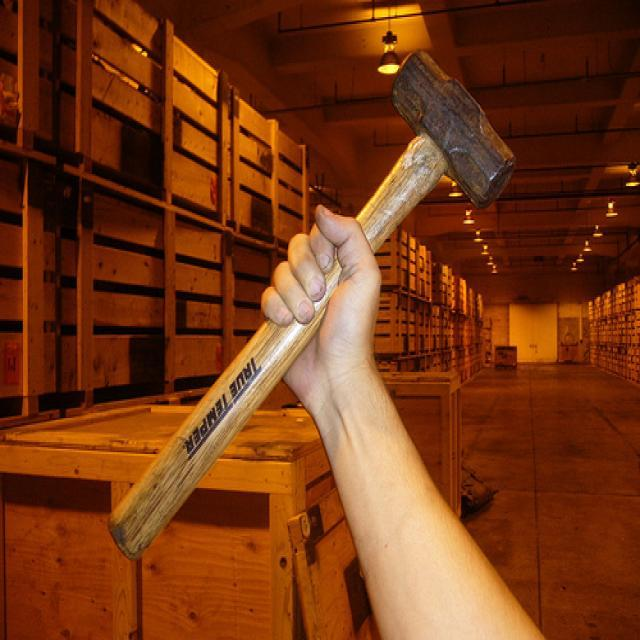hammer: (101, 39, 522, 574)
